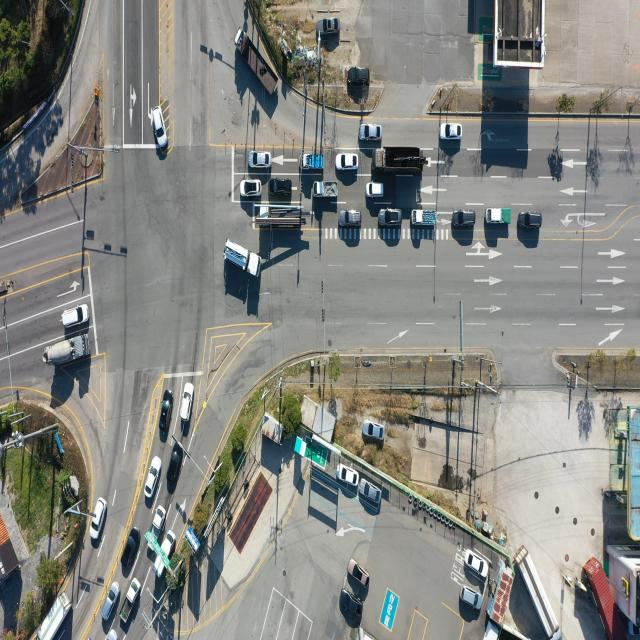car: (122, 528, 142, 568), (101, 582, 120, 622), (145, 456, 162, 499), (91, 498, 108, 540), (152, 105, 168, 149), (61, 305, 90, 329), (341, 588, 362, 618), (465, 551, 487, 578), (350, 559, 370, 588), (358, 479, 381, 504), (460, 586, 482, 612), (168, 441, 180, 487), (338, 463, 360, 485), (180, 382, 192, 421), (162, 393, 174, 432), (338, 209, 362, 228), (380, 209, 405, 226), (362, 421, 384, 440), (441, 124, 464, 142), (453, 210, 476, 228), (336, 152, 358, 170), (251, 150, 273, 168), (359, 124, 381, 142), (521, 212, 544, 229), (270, 181, 293, 198), (350, 66, 370, 85), (354, 62, 375, 80), (241, 180, 262, 197), (320, 18, 340, 35), (549, 154, 561, 182), (365, 182, 384, 198), (106, 629, 119, 640)
medium_truck: (519, 544, 563, 637), (235, 26, 279, 95), (37, 591, 73, 640), (371, 144, 423, 176), (45, 334, 91, 370), (224, 238, 261, 282), (258, 204, 304, 228)
small_truck: (121, 576, 142, 622), (155, 530, 175, 578), (150, 505, 168, 549), (485, 208, 511, 226), (313, 180, 337, 199), (412, 209, 437, 227), (303, 155, 326, 172)
